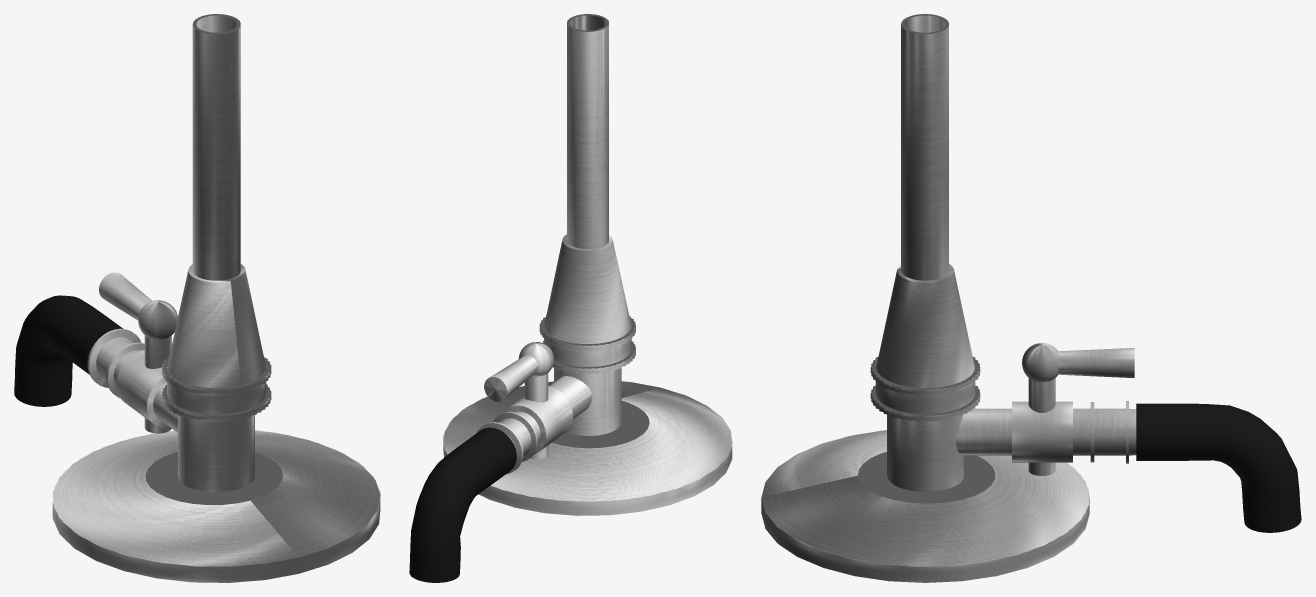
The model's file is ガスバーナー.fbx.
The picture shows the model from 3 angles, left to right: view 1: azimuth 30°, elevation 25°; view 2: azimuth 150°, elevation 25°; view 3: azimuth 270°, elevation 25°; orthographic projection. The views are drawn at different scales.
Parts seen in each view (by area): view 1: obj3, obj1, obj4; view 2: obj3, obj1, obj4; view 3: obj3, obj1, obj4.
Part boxes in pixels (box(x1,y1,x2,y2)): obj3: box(87, 14, 271, 492); obj1: box(52, 430, 380, 582); obj4: box(14, 295, 123, 406); obj3: box(476, 14, 635, 473); obj1: box(443, 381, 732, 515); obj4: box(409, 427, 516, 582); obj3: box(870, 14, 1136, 491); obj1: box(761, 430, 1089, 582); obj4: box(1136, 403, 1301, 532).
Bounding box in the file's own units: 200 × 335 × 329.
3 materials, 2 textured.
